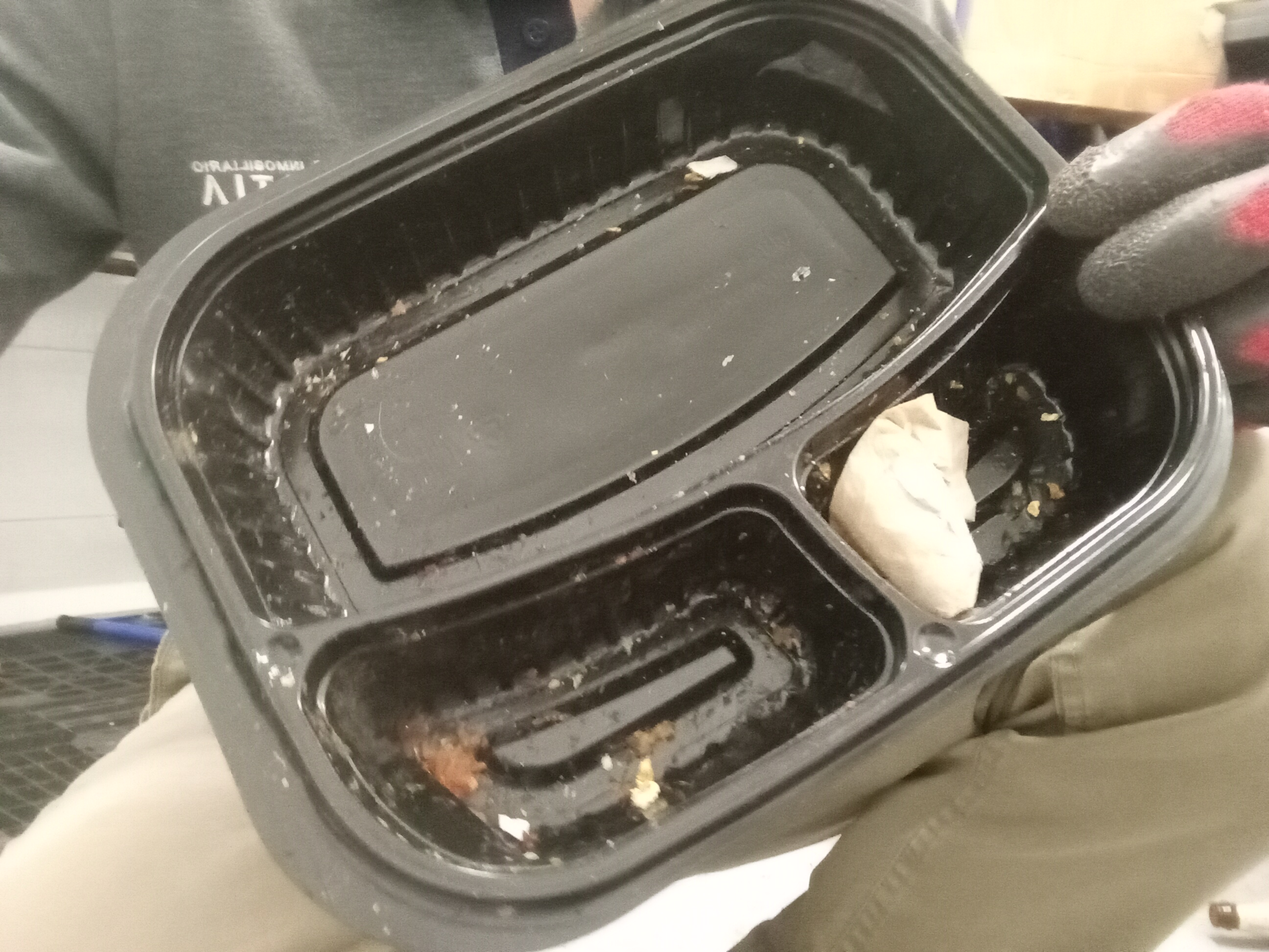Ordinario: (90, 0, 1234, 952)
